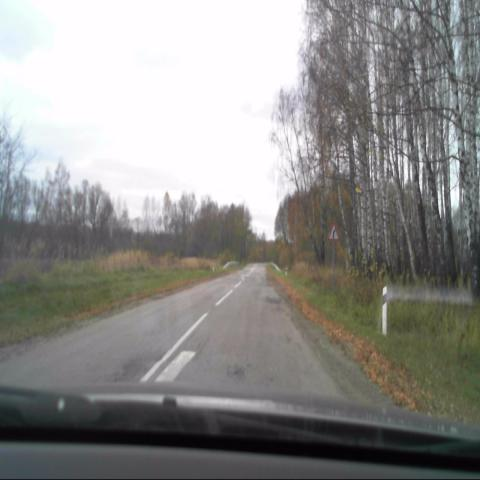1_11: (328, 222, 338, 240)
